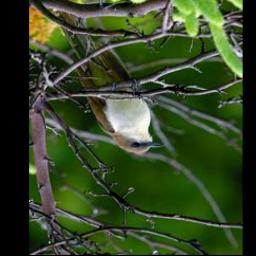Cuckoo: (51, 8, 159, 157)
